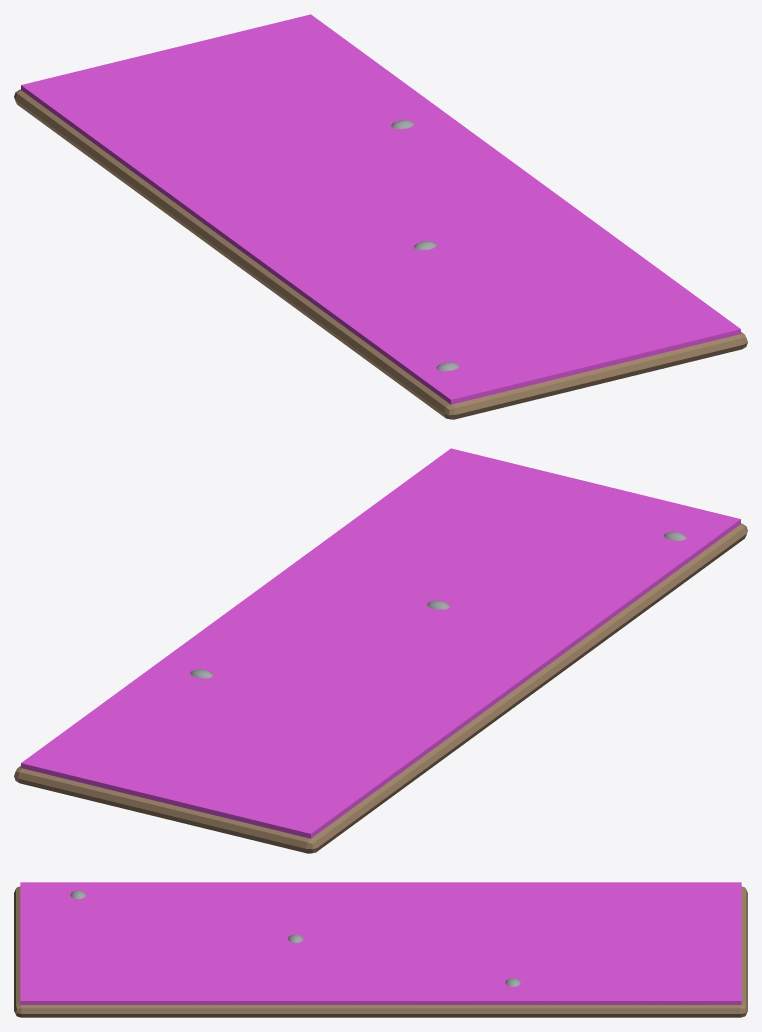
The picture shows the model from 3 angles, top to bottom: view 1: azimuth 30°, elevation 25°; view 2: azimuth 150°, elevation 25°; view 3: azimuth 270°, elevation 25°; orthographic projection. The views are drawn at different scales.
Parts seen in each view (by area): view 1: NAV_MASK_FOREST_PATH_DIRT_STRAIGHT_MAIN, LOD1_FOREST_PATH_DIRT_STRAIGHT_Surface; view 2: NAV_MASK_FOREST_PATH_DIRT_STRAIGHT_MAIN, LOD1_FOREST_PATH_DIRT_STRAIGHT_Surface; view 3: NAV_MASK_FOREST_PATH_DIRT_STRAIGHT_MAIN, LOD1_FOREST_PATH_DIRT_STRAIGHT_Surface.
Boxes of the visible parts, <box> form: NAV_MASK_FOREST_PATH_DIRT_STRAIGHT_MAIN: <box>21,14,740,404</box>; LOD1_FOREST_PATH_DIRT_STRAIGHT_Surface: <box>14,89,747,419</box>; NAV_MASK_FOREST_PATH_DIRT_STRAIGHT_MAIN: <box>21,448,740,838</box>; LOD1_FOREST_PATH_DIRT_STRAIGHT_Surface: <box>14,523,747,853</box>; NAV_MASK_FOREST_PATH_DIRT_STRAIGHT_MAIN: <box>20,882,741,1004</box>; LOD1_FOREST_PATH_DIRT_STRAIGHT_Surface: <box>14,886,747,1017</box>.
Size of what is drawn, in the model's own units: 3.2 by 0.24 by 8.
